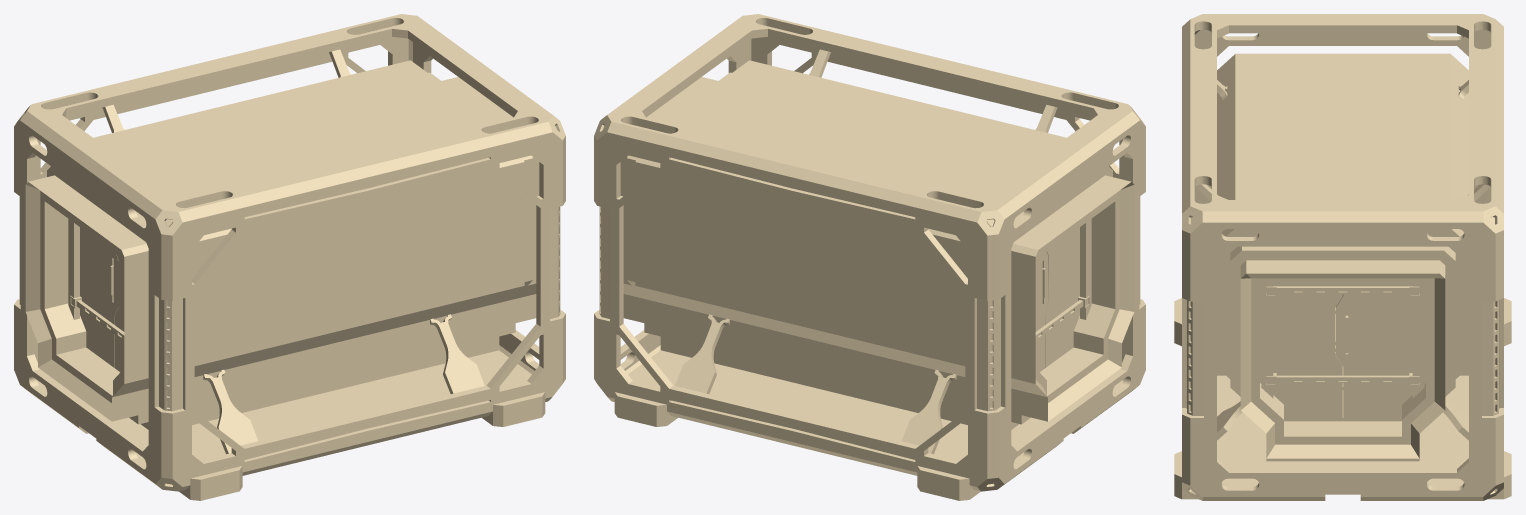
The model's file is cargo_box9.fbx.
The picture shows the model from 3 angles, left to right: view 1: azimuth 30°, elevation 25°; view 2: azimuth 150°, elevation 25°; view 3: azimuth 270°, elevation 25°; orthographic projection. The views are drawn at different scales.
Parts seen in each view (by area): view 1: Cube.026, Cube.030, Cube.015_Piece.003, rope.001, Cube.027; view 2: Cube.026, Cube.030, Cube.015_Piece.003, rope.001, Cube.027; view 3: Cube.030, Cube.026, Cube.015_Piece.003, Cube.027, rope.001.
Part boxes in pixels (x1,y1,x2,y2): Cube.026: (25,60,539,429); Cube.030: (14,14,565,500); Cube.015_Piece.003: (80,227,124,372); rope.001: (102,49,484,454); Cube.027: (68,219,124,340); Cube.026: (620,60,1134,429); Cube.030: (594,14,1145,500); Cube.015_Piece.003: (1035,227,1079,372); rope.001: (675,49,1057,454); Cube.027: (1035,219,1091,340); Cube.030: (1174,14,1511,500); Cube.026: (1217,53,1468,461); Cube.015_Piece.003: (1260,286,1425,421); Cube.027: (1261,286,1424,397); rope.001: (1195,80,1490,440).
Size of the model in its own units: 85.34 by 54.35 by 55.99.
